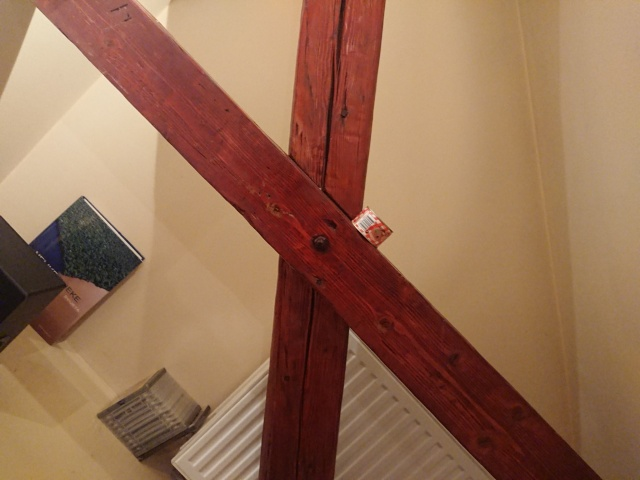Podravka Luncheon Meat 150g: (350, 204, 395, 250)
